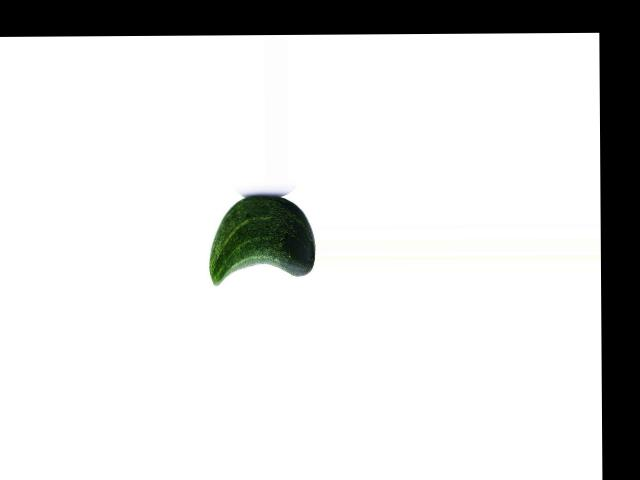cucumber: (207, 195, 315, 285)
